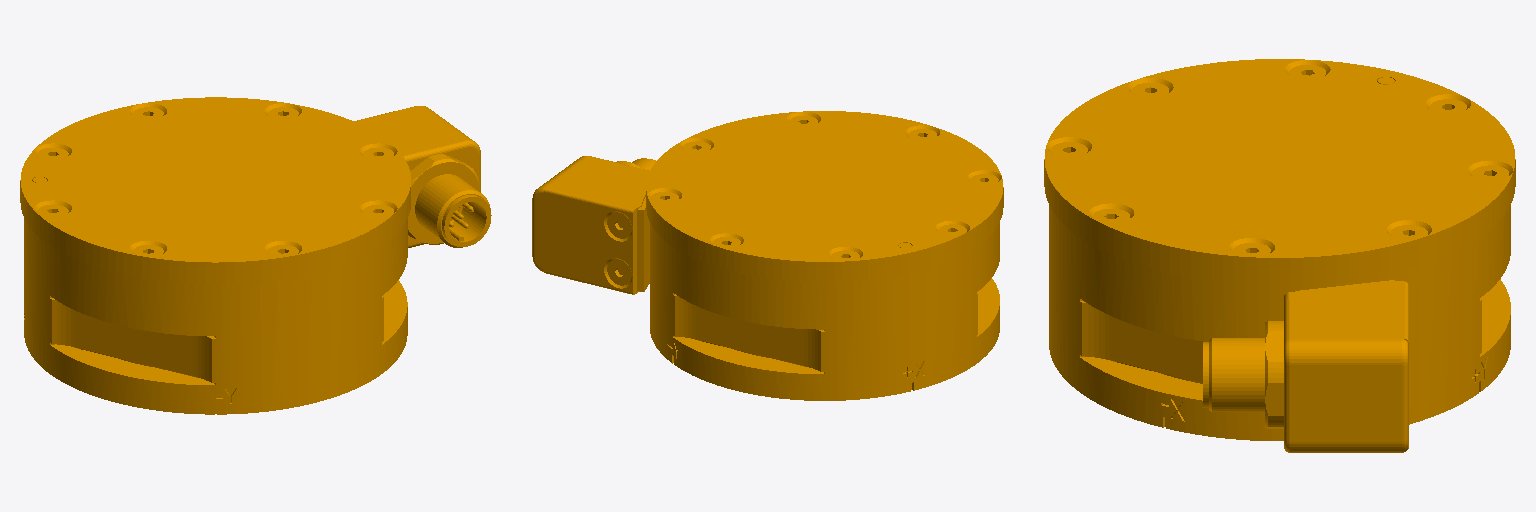
robot.urdf — ati_net_gamma:
<?xml version="1.0" ?>

<robot name="ati_net_gamma" xmlns:xacro="http://www.ros.org/wiki/xacro">

    <!-- ati-net-gamma Link -->
  <link name="ati_net_gamma">
    <visual>
      <origin xyz="0 0 0" rpy="0 0 0"/> 
      <geometry>
        <mesh filename="package://virtual_tactile_pad/urdf/meshes/ati_net_gamma.stl"/> 
      </geometry>
      <material name="ati_net_gamma_gray"/>
    </visual>
    <collision>
      <origin xyz="0 0 0" rpy="0 0 0"/>
      <geometry>
        <mesh filename="package://virtual_tactile_pad/urdf/meshes/ati_net_gamma.stl"/>
      </geometry>
    </collision>
    <inertial>
      <mass value="1.145"/> 
      <origin xyz="0 0 0" rpy="0 0 0"/> 
      <inertia ixx="0.4644" ixy="0.035" ixz="0.00153" iyy="0.6389" iyz="0.00056" izz="0.9040"/>
    </inertial>
  </link>
</robot>

--- What the picture shows (computed from the rendered views, not written in the file) ---
3 views of the same robot in one strip: view 1: azimuth 30°, elevation 25°; view 2: azimuth 150°, elevation 25°; view 3: azimuth 270°, elevation 25° (orthographic).
Model ati_net_gamma with 1 links and 0 joints (none), rooted at ati_net_gamma, posed all joints at 0.
Links seen in each view (by area): view 1: ati_net_gamma; view 2: ati_net_gamma; view 3: ati_net_gamma.
Link boxes in pixels (x1=…): ati_net_gamma: x1=20, y1=97, x2=491, y2=414; ati_net_gamma: x1=532, y1=111, x2=1003, y2=400; ati_net_gamma: x1=1044, y1=59, x2=1515, y2=452.
Size in the robot's own frame: 0.0975 by 0.0754 by 0.0333 metres.
Meshes: 1 distinct files referenced, 1 mesh visuals loaded (1 binary STL).